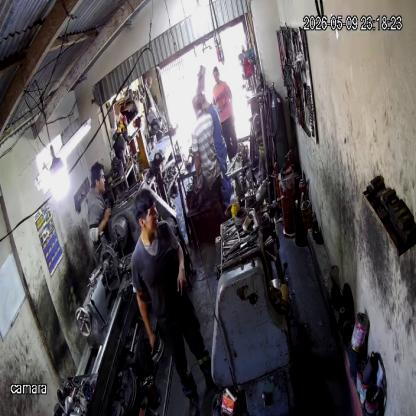sin_lentes: (144, 202, 159, 216)
